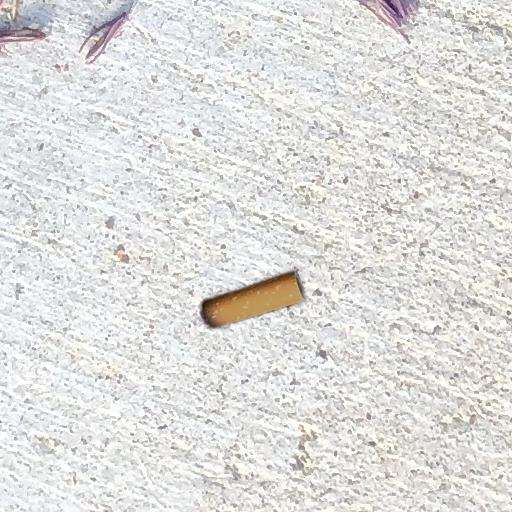smoke: (202, 273, 304, 327)
